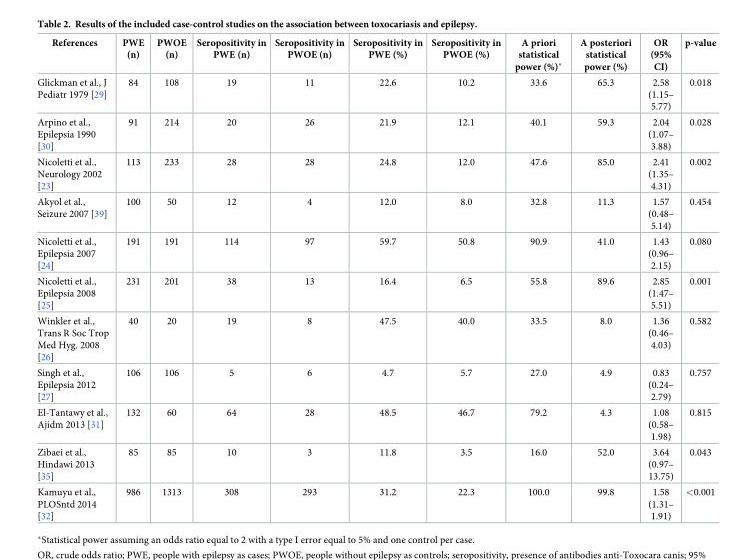table: (36, 37, 715, 520)
table column: (426, 37, 507, 520), (190, 37, 269, 520), (347, 37, 426, 520), (36, 37, 114, 520), (269, 37, 347, 520), (570, 37, 638, 520), (507, 37, 570, 520), (149, 37, 190, 520), (638, 37, 678, 520), (678, 37, 715, 520), (114, 37, 149, 520)
table column header: (36, 37, 715, 74)
table row: (36, 312, 715, 364), (36, 74, 715, 114), (36, 153, 715, 193), (36, 193, 715, 233), (36, 233, 715, 273), (36, 364, 715, 404), (36, 404, 715, 444), (36, 114, 715, 153), (36, 273, 715, 312), (36, 444, 715, 483), (36, 37, 715, 74), (36, 483, 715, 520)
